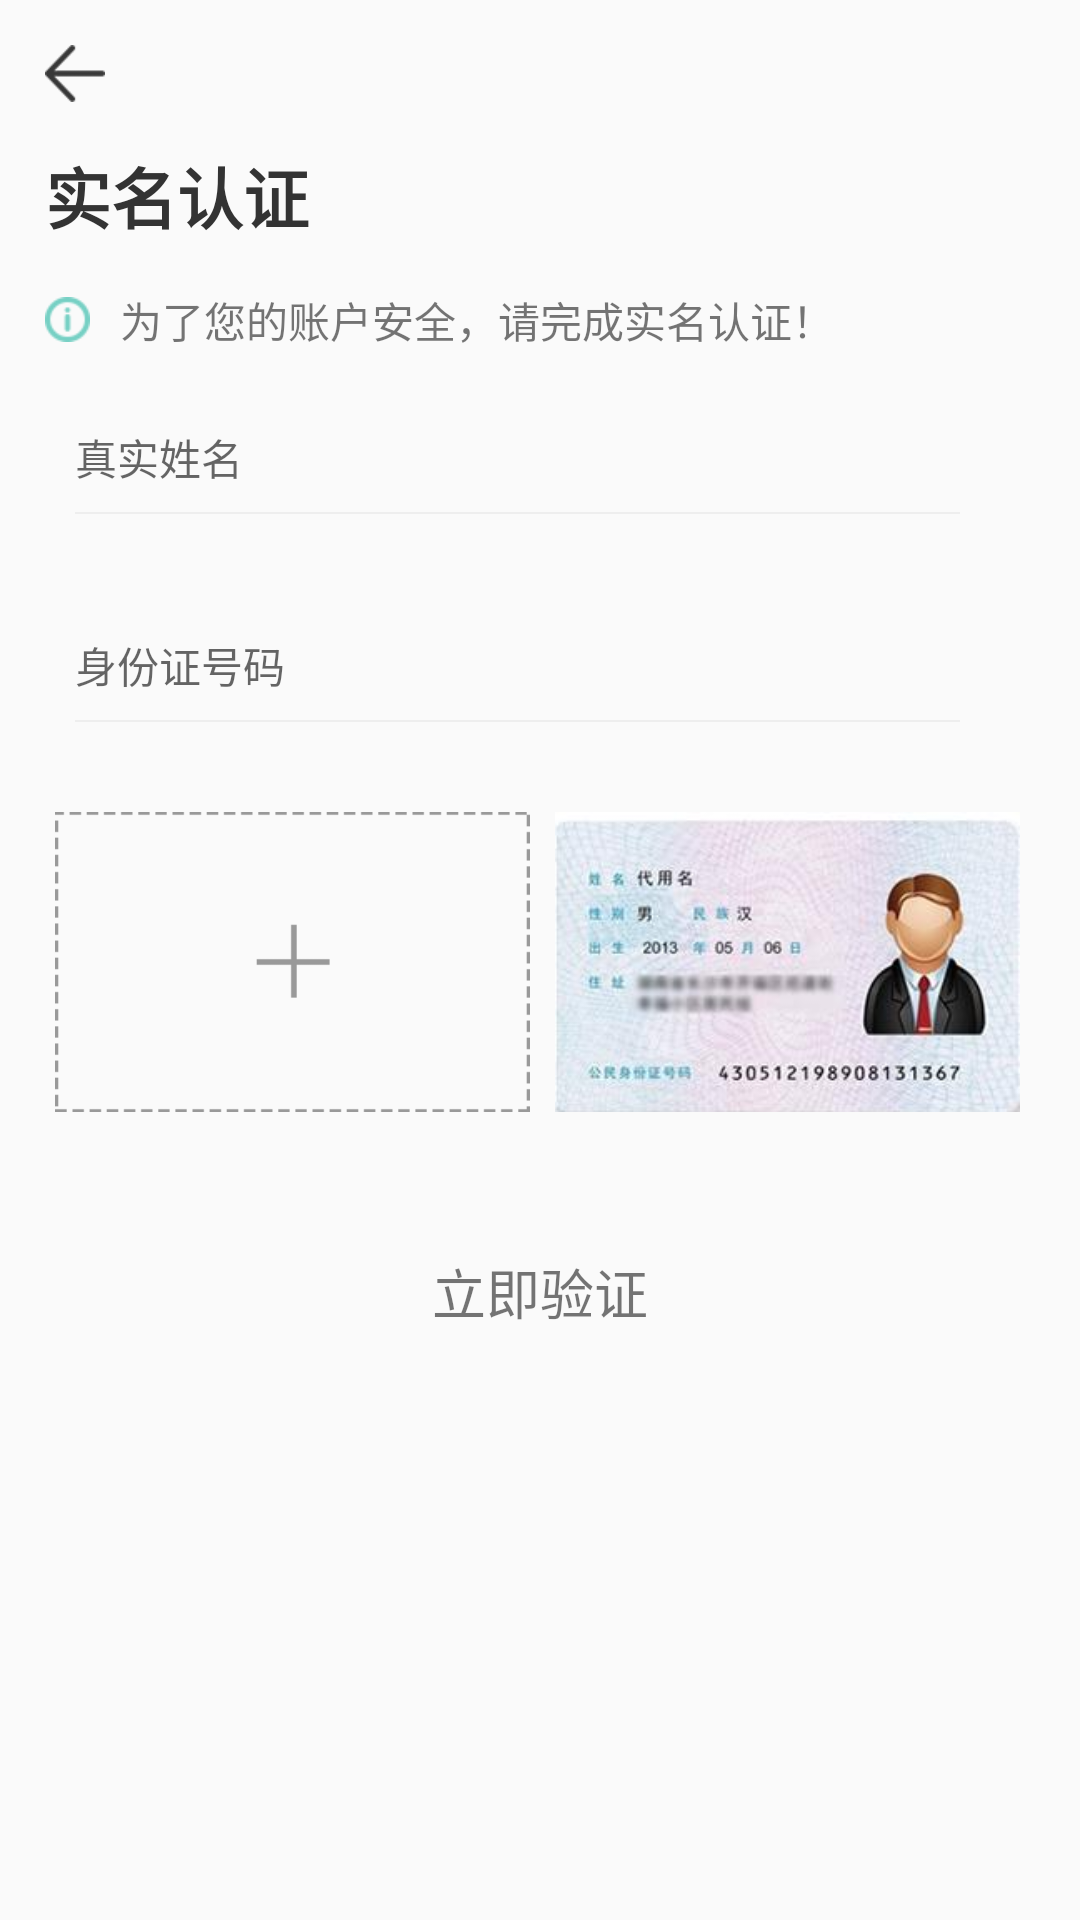

Where icons sit on this 1080 × 1920 app screen, as [left=x1, top=y1, right=x2, bottom=y2]:
backimg: [left=45, top=45, right=105, bottom=102]
